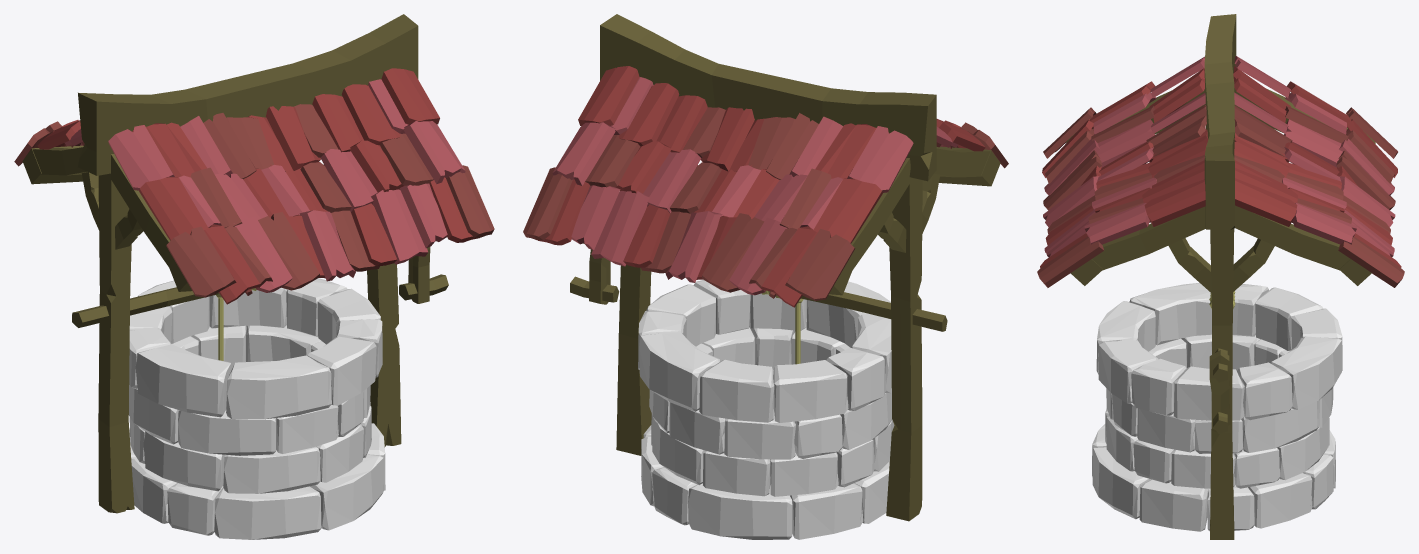
The model's file is well_baked.glb.
The picture shows the model from 3 angles, left to right: view 1: azimuth 30°, elevation 25°; view 2: azimuth 150°, elevation 25°; view 3: azimuth 270°, elevation 25°; orthographic projection. The views are drawn at different scales.
Visible parts, largest first — view 1: top, top beam, top.001, top.003, frame1.001, top.002, frame1, Cube.001, Cube.025, suppa, Cube.036, Cube.020 (+39 smaller); view 2: top, top beam, top.001, top.003, frame1.001, top.002, frame1, Cube.001, Cube.025, suppa, Cube.036, Cube.020 (+39 smaller); view 3: top, top.003, top.001, top.002, top beam, suppa, frame1, Cube.048, Cube.024, Cube.023, Cube.028, supp2 (+34 smaller).
Boxes of the visible parts, bbox=[...] form: top: bbox=[129, 278, 382, 419]; top beam: bbox=[78, 14, 418, 175]; top.001: bbox=[129, 325, 370, 455]; top.003: bbox=[129, 423, 385, 539]; frame1.001: bbox=[98, 173, 134, 513]; top.002: bbox=[129, 402, 371, 493]; frame1: bbox=[367, 263, 401, 447]; Cube.001: bbox=[14, 121, 236, 297]; Cube.025: bbox=[37, 120, 208, 240]; suppa: bbox=[32, 147, 174, 266]; Cube.036: bbox=[70, 125, 174, 190]; Cube.020: bbox=[371, 189, 428, 264]; top: bbox=[638, 280, 891, 422]; top beam: bbox=[600, 14, 936, 181]; top.001: bbox=[649, 326, 892, 459]; top.003: bbox=[641, 425, 889, 539]; frame1.001: bbox=[886, 177, 922, 521]; top.002: bbox=[651, 414, 894, 496]; frame1: bbox=[616, 265, 651, 455]; Cube.001: bbox=[785, 122, 1008, 300]; Cube.025: bbox=[813, 119, 985, 243]; suppa: bbox=[847, 148, 990, 269]; Cube.036: bbox=[847, 126, 952, 192]; Cube.020: bbox=[591, 191, 649, 266]; top: bbox=[1096, 283, 1342, 420]; top.003: bbox=[1092, 424, 1335, 531]; top.001: bbox=[1106, 334, 1333, 453]; top.002: bbox=[1105, 408, 1329, 488]; top beam: bbox=[1204, 14, 1236, 229]; suppa: bbox=[1092, 88, 1350, 270]; frame1: bbox=[1210, 228, 1234, 539]; Cube.048: bbox=[1144, 178, 1297, 226]; Cube.024: bbox=[1084, 202, 1356, 244]; Cube.023: bbox=[1037, 236, 1404, 287]; Cube.028: bbox=[1087, 119, 1342, 167]; supp2: bbox=[1168, 238, 1274, 292].
Size of the model in its own units: 3.39 by 3.73 by 3.15.
